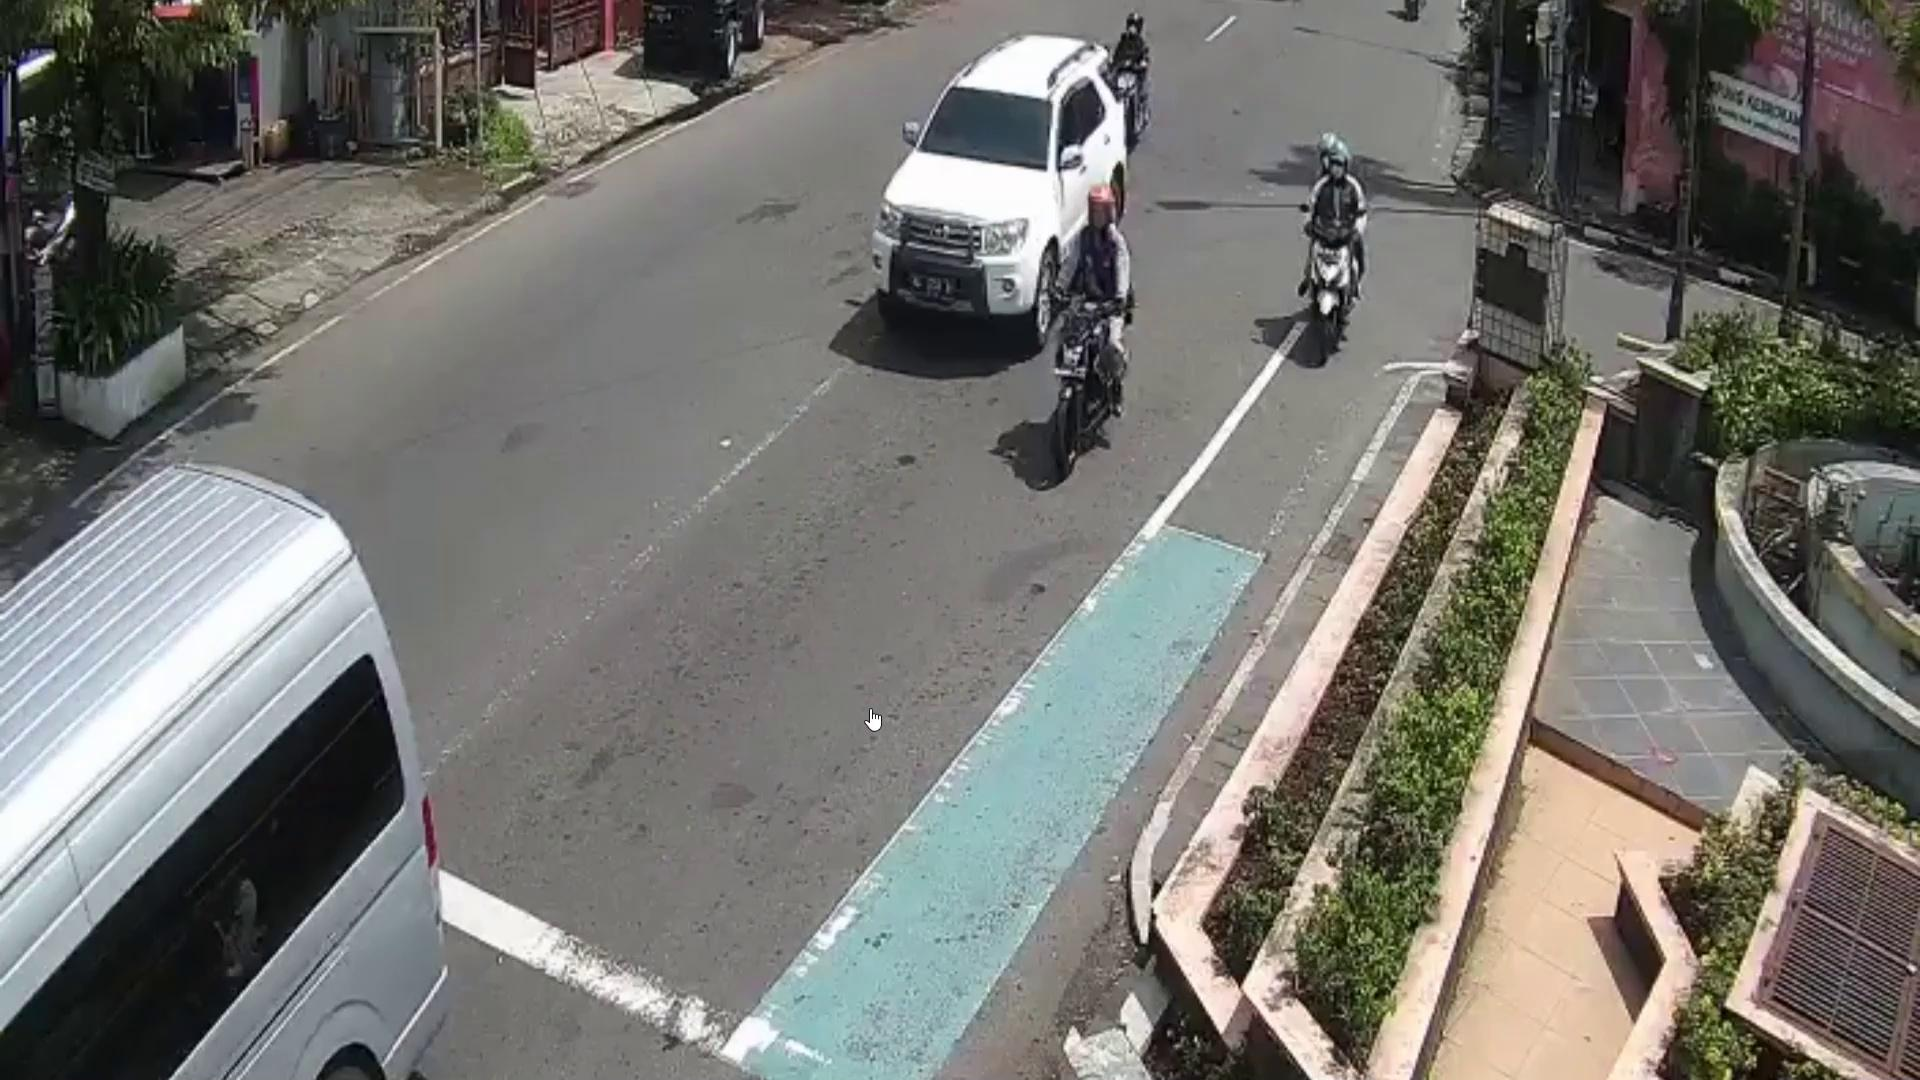bus: (0, 460, 454, 1080)
car: (872, 32, 1127, 345)
motorbike: (1046, 289, 1110, 479), (1307, 212, 1353, 368)
